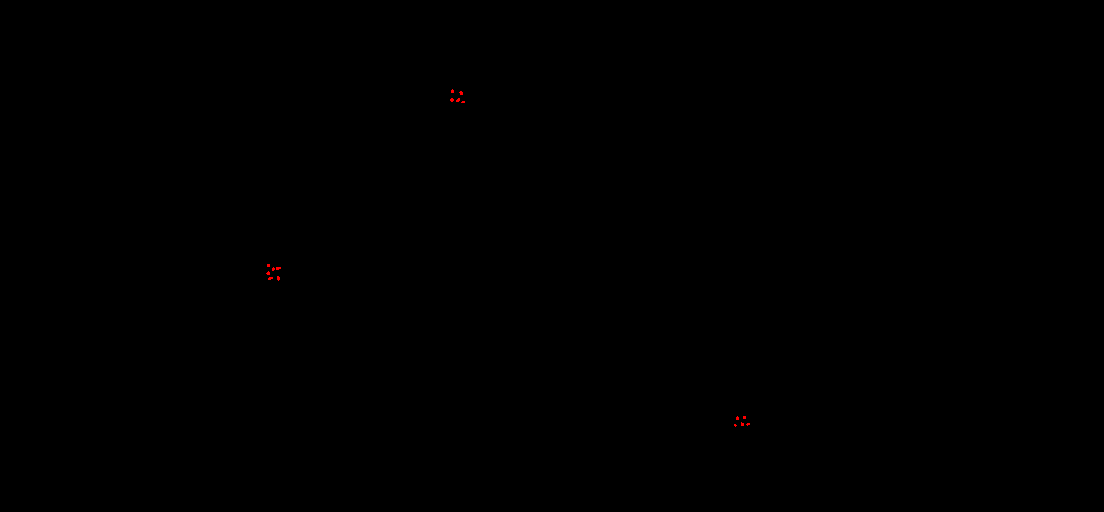Target: (459, 91, 463, 95), (450, 98, 454, 102), (456, 98, 460, 102), (266, 271, 270, 275), (276, 267, 281, 270), (277, 276, 280, 281), (268, 277, 273, 280), (451, 89, 454, 93), (272, 267, 275, 271), (736, 416, 739, 420), (741, 422, 744, 426), (746, 423, 750, 426), (267, 264, 270, 267), (743, 416, 746, 419), (734, 424, 737, 427), (461, 101, 465, 103)
